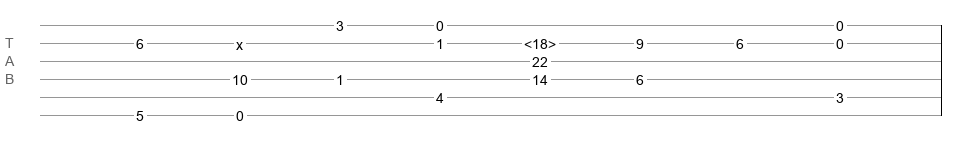0: (236, 108, 244, 118), (436, 18, 444, 28), (836, 36, 844, 46), (836, 18, 844, 28)
1: (336, 72, 344, 82), (436, 36, 444, 46)
10: (232, 72, 248, 82)
14: (532, 72, 548, 82)
22: (532, 54, 548, 64)
3: (336, 18, 344, 28), (836, 90, 844, 100)
4: (436, 90, 444, 100)
5: (136, 108, 144, 118)
6: (136, 36, 144, 46), (636, 72, 644, 82), (736, 36, 744, 46)
9: (636, 36, 644, 46)
harmonic: (524, 36, 556, 46)
x: (236, 37, 243, 45)
